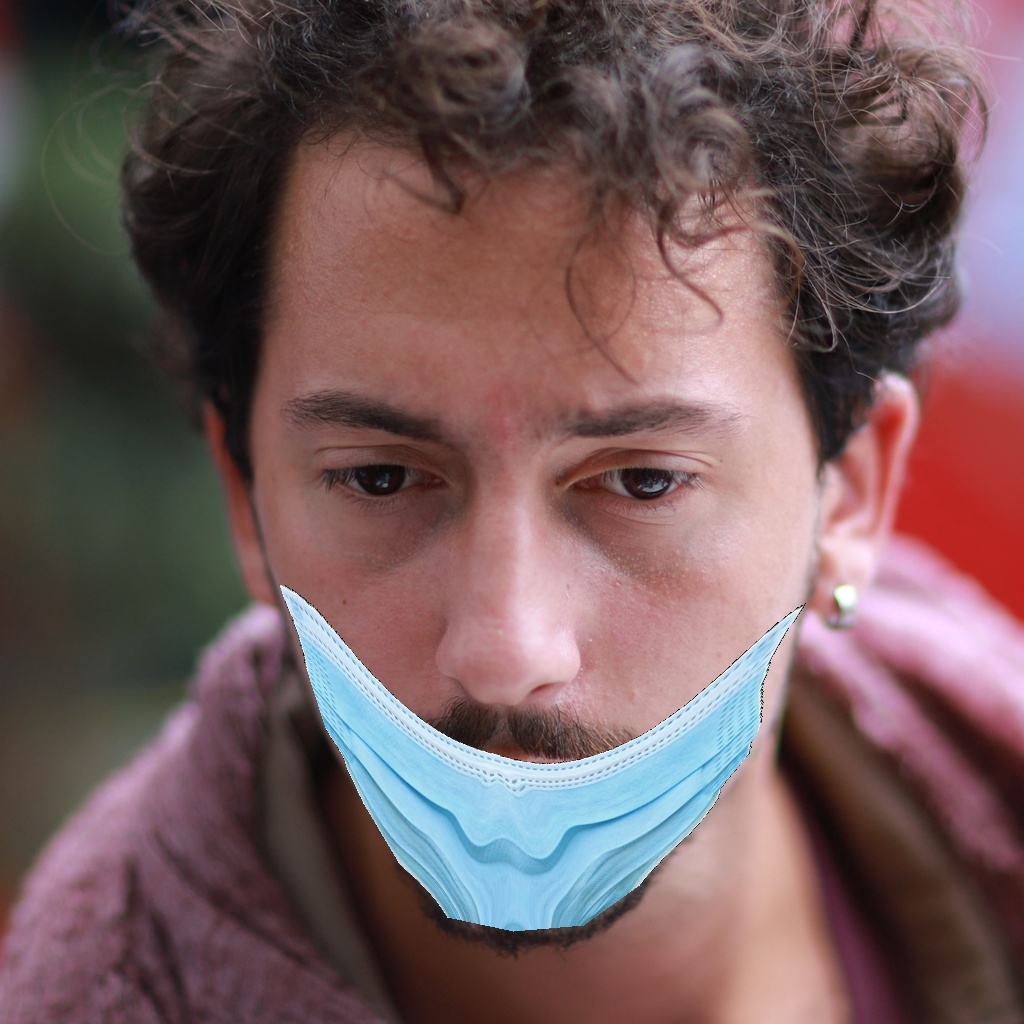mascarilla_mal_puesta: (207, 303, 864, 1000)
